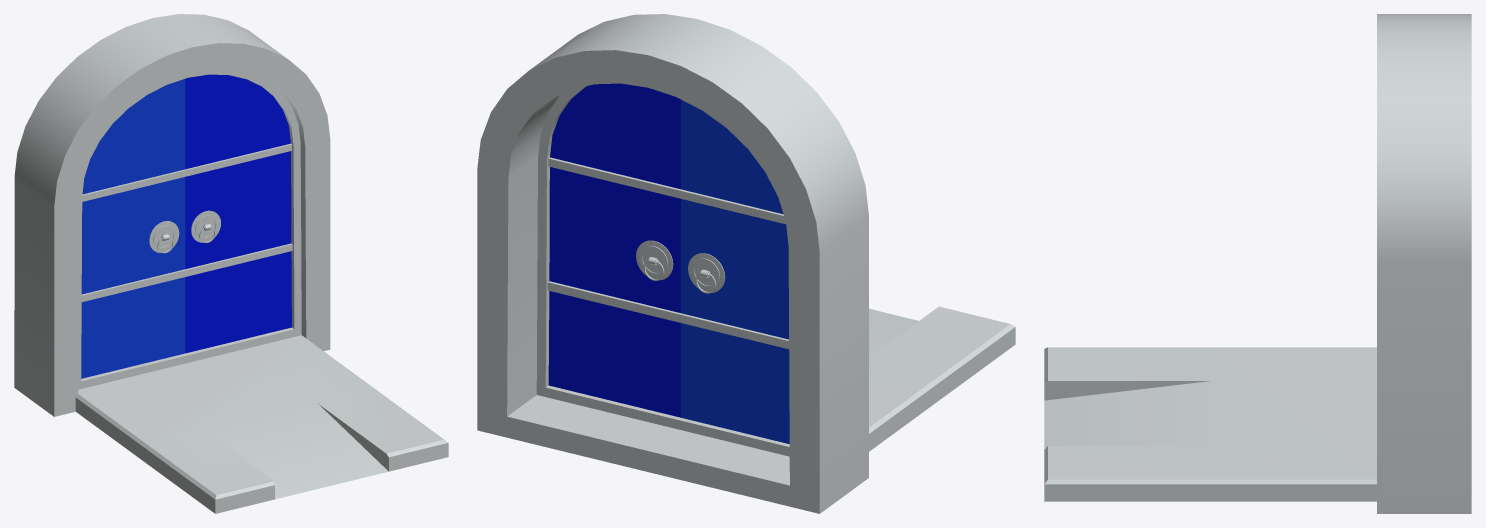
File: TunnelPortal.fbx
3 views of the same model, side by side, from view 1: azimuth 30°, elevation 25°; view 2: azimuth 150°, elevation 25°; view 3: azimuth 270°, elevation 25° (orthographic). The views are drawn at different scales.
Visible parts, largest first — view 1: PortalDoor, PortalDoor.002, Circle.020; view 2: PortalDoor, PortalDoor.002, Circle.020; view 3: PortalDoor.
Boxes of the visible parts, box(x1,y1,x2,y2) form: PortalDoor: box(14, 14, 448, 513); PortalDoor.002: box(185, 70, 301, 362); Circle.020: box(78, 75, 187, 389); PortalDoor: box(477, 14, 1015, 513); PortalDoor.002: box(536, 83, 680, 429); Circle.020: box(678, 99, 789, 456); PortalDoor: box(1044, 14, 1471, 513).
Bounding box in the file's own units: 1525 × 1774 × 1717.
